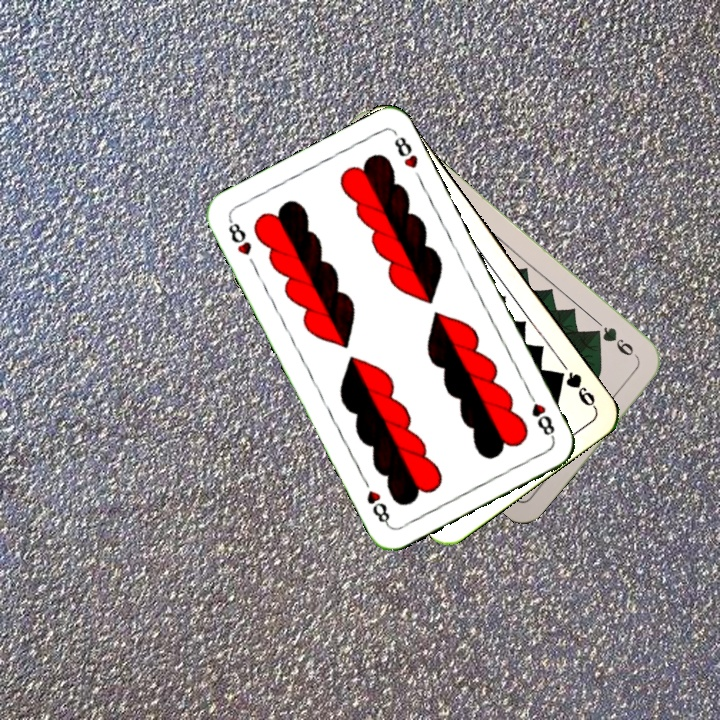G9: (550, 366, 599, 411), (588, 322, 637, 359)
H8: (523, 387, 558, 442), (224, 215, 254, 258)
